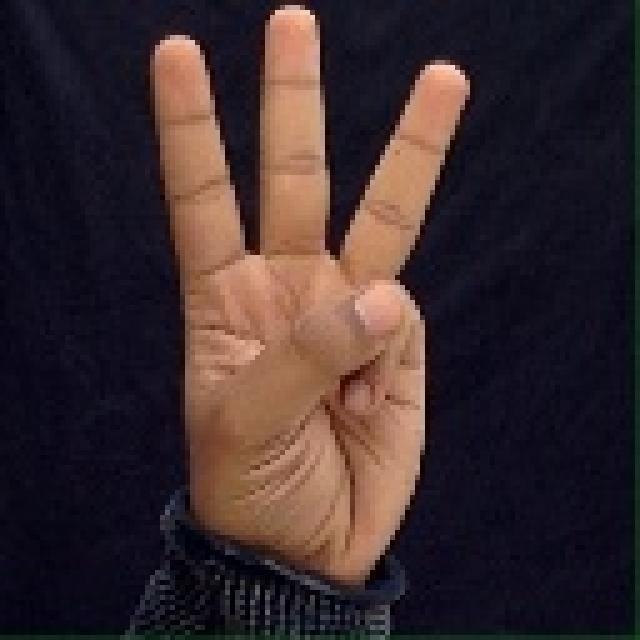Three: (98, 0, 510, 595)
